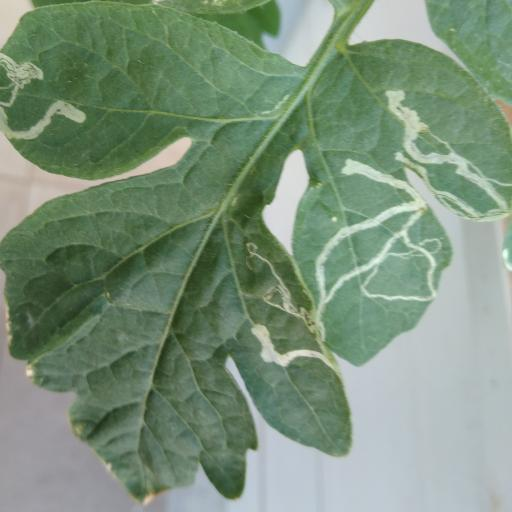Leaf_Miner: (293, 41, 512, 367), (0, 0, 181, 183), (220, 230, 356, 459)
